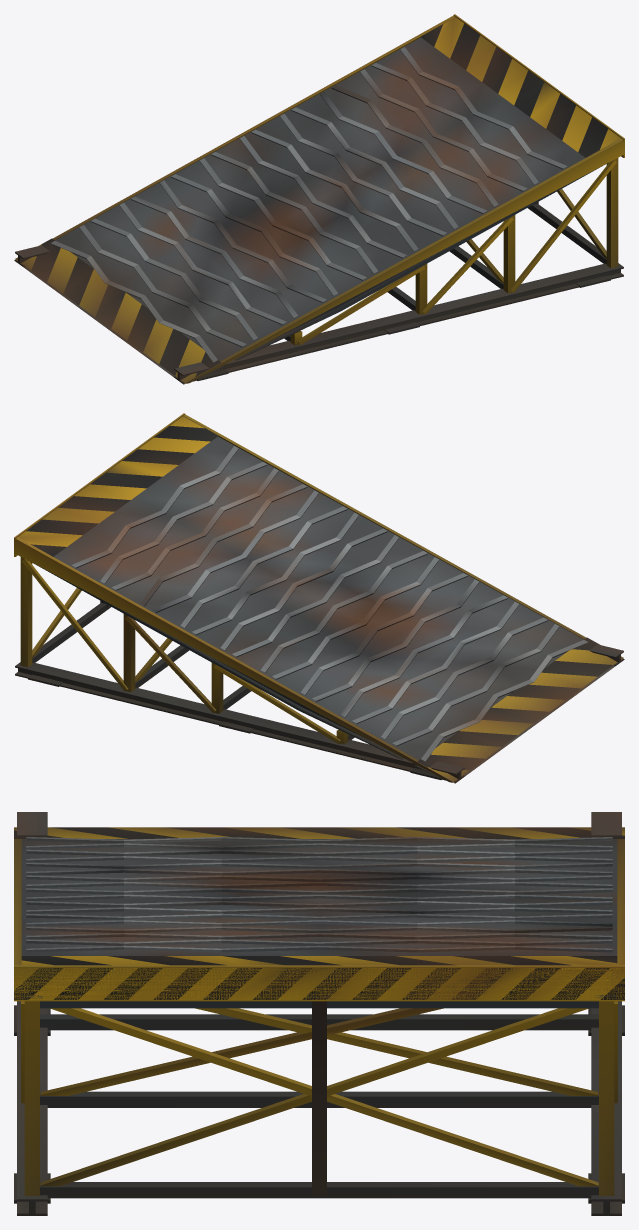
Rendered from jump_ramp.glb.
3 views of the same model, one above another, from view 1: azimuth 30°, elevation 25°; view 2: azimuth 150°, elevation 25°; view 3: azimuth 270°, elevation 25° (orthographic). The views are drawn at different scales.
Parts seen in each view (by area): view 1: JumpRamp; view 2: JumpRamp; view 3: JumpRamp.
Part boxes in pixels (bbox=[...]): JumpRamp: bbox=[14, 14, 624, 384]; JumpRamp: bbox=[14, 413, 624, 783]; JumpRamp: bbox=[14, 812, 624, 1215].
Bounding box in the file's own units: 6 × 1.8 × 4.
